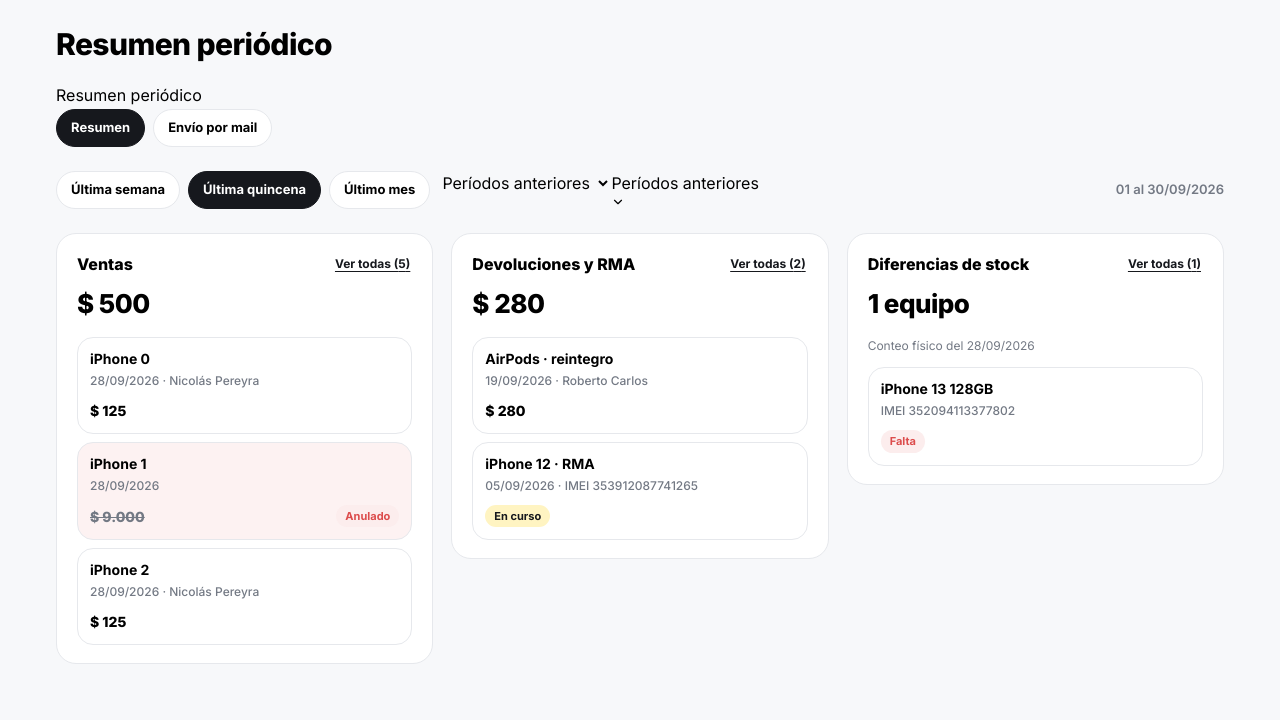
Test: Resumen periódico › switches latest and historical calendar periods with the shared selector
Check: the element "Ventas" is shown, box [56,233,433,664]
Click the button "Último mes": {"x": 380, "y": 190} [329,171,430,209]
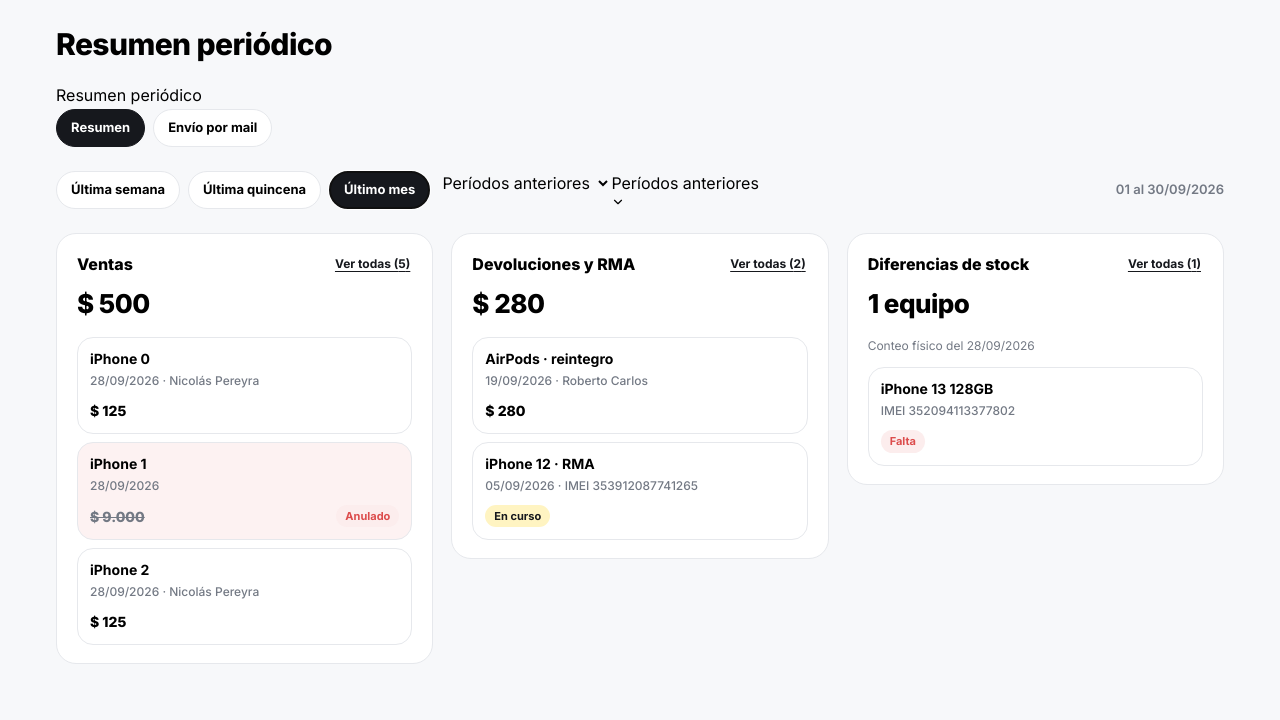
Check: the element "Ventas" is shown, box [56,233,433,664]
Click the dropdown labelled "Períodos anteriores": {"x": 685, "y": 190} [611,171,759,209]
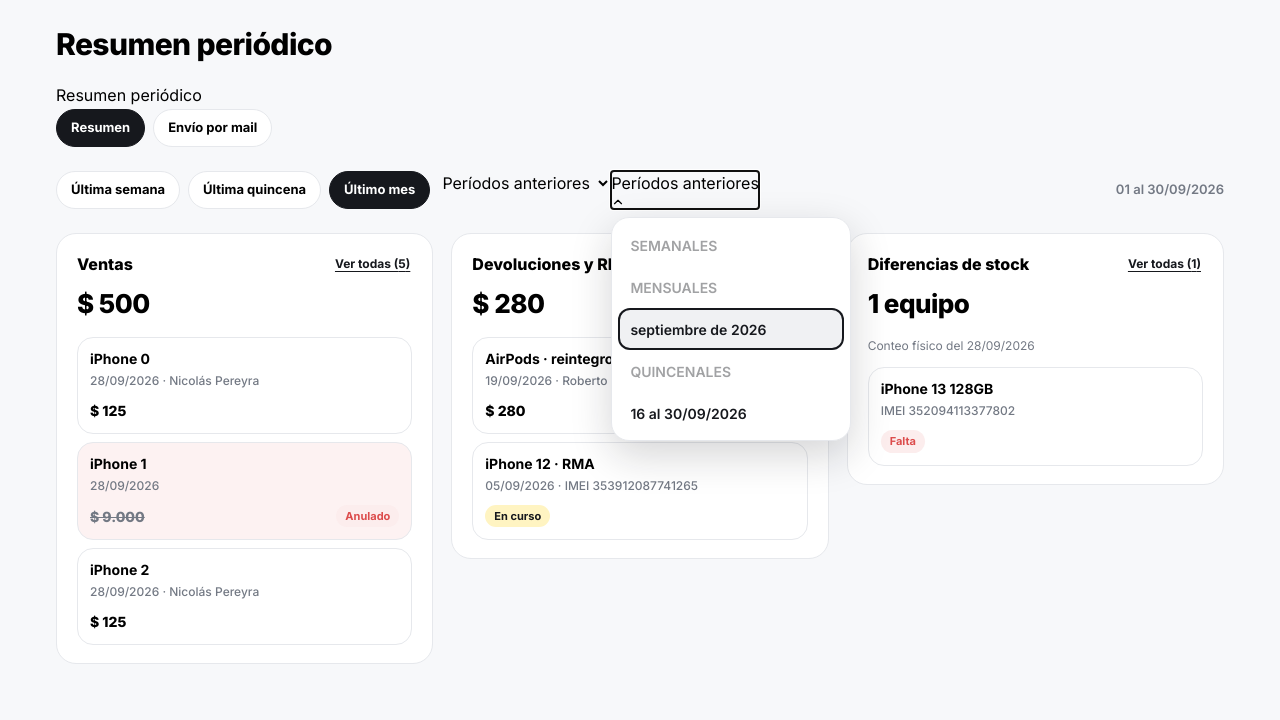
Click the option "16 al 30/09/2026": {"x": 688, "y": 413} [630,404,747,422]
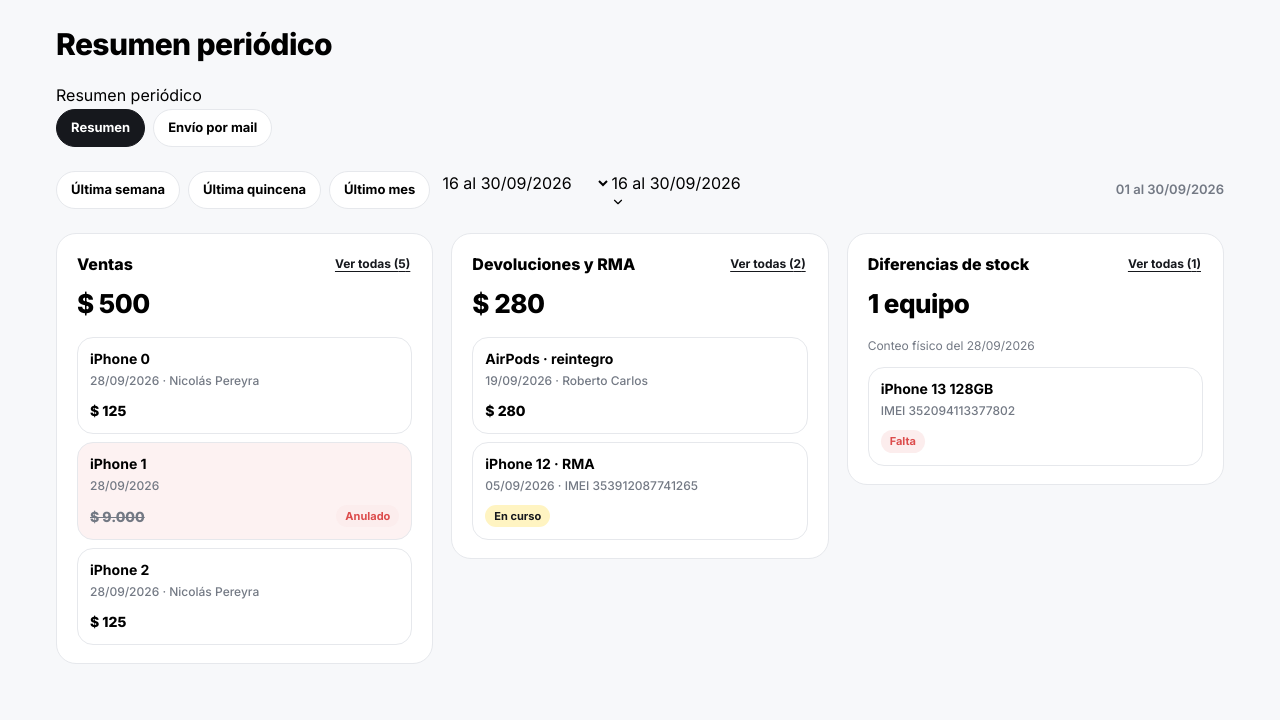
Check: the dropdown named "Períodos anteriores" reads "16 al 30/09/2026", box [611,171,741,209]
